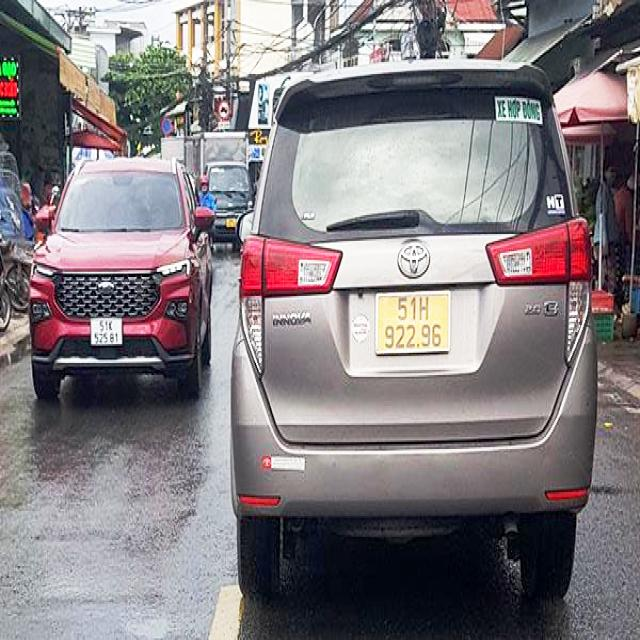license_plate: (376, 293, 453, 356), (91, 319, 125, 349)
